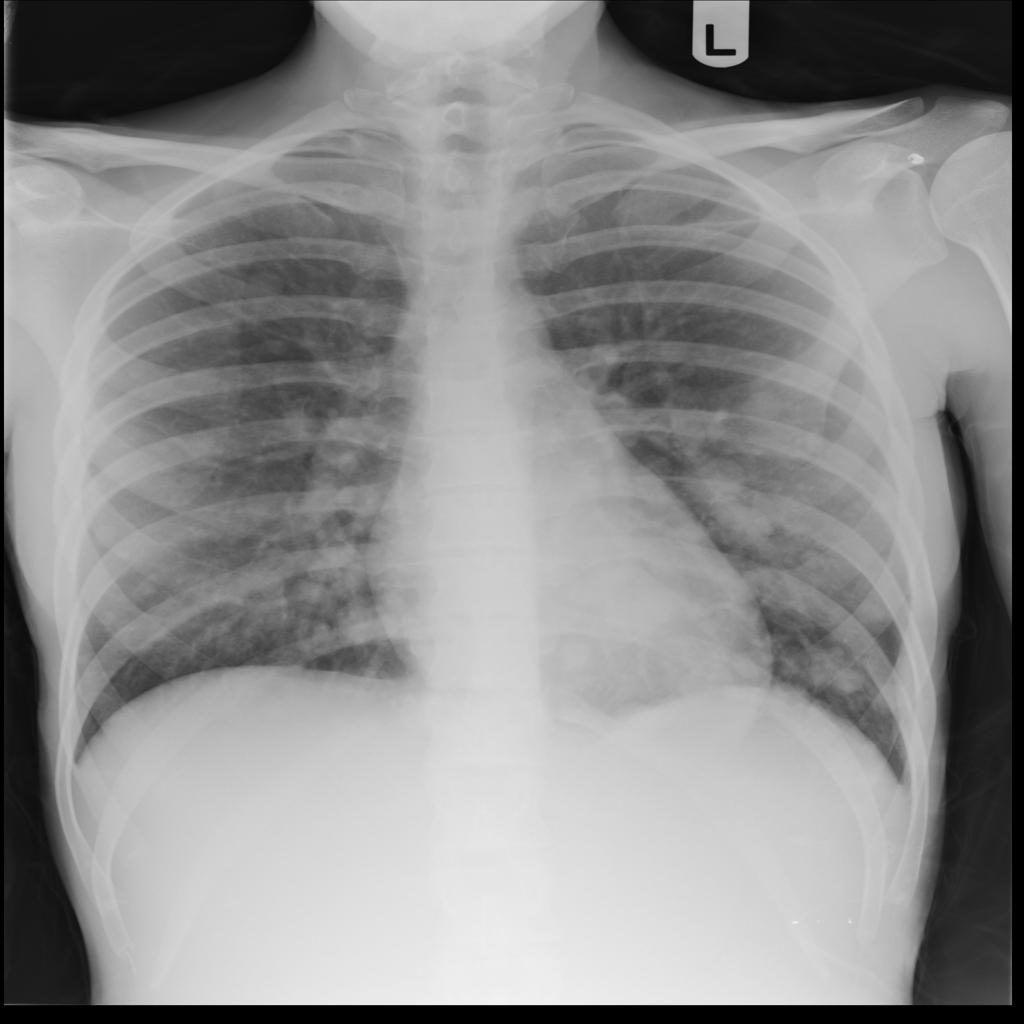nodule: (793, 643, 882, 709), (540, 627, 618, 695), (611, 447, 688, 514), (223, 257, 303, 314), (244, 326, 308, 366), (114, 565, 173, 608), (80, 508, 134, 553)
